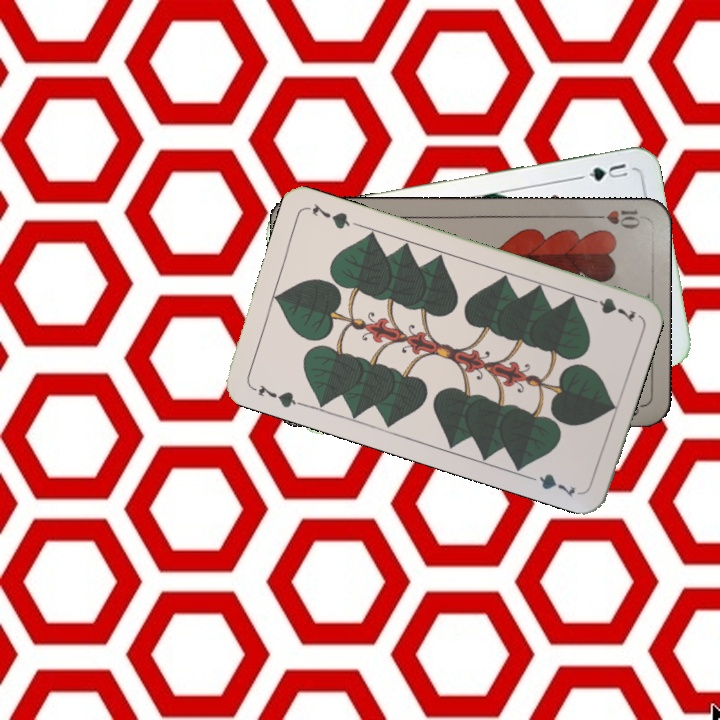G7: (581, 292, 639, 325), (247, 380, 305, 411)
GU: (575, 159, 631, 184)
H10: (586, 205, 643, 231)
